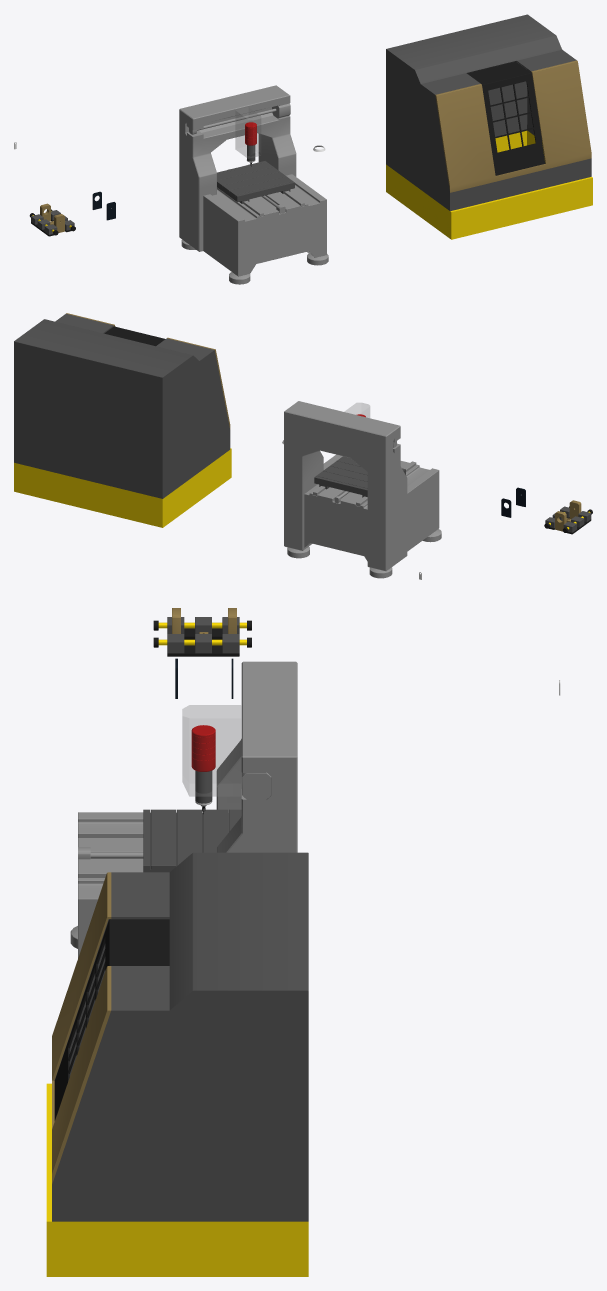
The model's file is 高雕機.FBX.
3 views of the same model, one above another, from view 1: azimuth 30°, elevation 25°; view 2: azimuth 150°, elevation 25°; view 3: azimuth 270°, elevation 25° (orthographic). The views are drawn at different scales.
Visible parts, largest first — view 1: 高雕機_外殼, 高雕_Base, 高雕_Bed, 高雕_主軸外殼, 高雕_置具架, 高雕_主軸馬達; view 2: 高雕機_外殼, 高雕_Base, 高雕_Bed, 高雕_置具架, 高雕_置具架2; view 3: 高雕機_外殼, 高雕_Base, 高雕_主軸外殼, 高雕_Bed, 高雕_置具架, 高雕_主軸馬達.
Boxes of the visible parts, x1=… form: 高雕機_外殼: x1=386, y1=14, x2=592, y2=239; 高雕_Base: x1=179, y1=85, x2=328, y2=284; 高雕_Bed: x1=217, y1=161, x2=294, y2=203; 高雕_主軸外殼: x1=235, y1=107, x2=260, y2=158; 高雕_置具架: x1=29, y1=203, x2=75, y2=236; 高雕_主軸馬達: x1=245, y1=122, x2=256, y2=162; 高雕機_外殼: x1=14, y1=313, x2=231, y2=527; 高雕_Base: x1=284, y1=401, x2=441, y2=578; 高雕_Bed: x1=314, y1=456, x2=405, y2=497; 高雕_置具架: x1=544, y1=500, x2=592, y2=534; 高雕_置具架2: x1=501, y1=487, x2=525, y2=517; 高雕機_外殼: x1=46, y1=852, x2=308, y2=1276; 高雕_Base: x1=70, y1=661, x2=297, y2=958; 高雕_主軸外殼: x1=182, y1=705, x2=240, y2=796; 高雕_Bed: x1=143, y1=809, x2=241, y2=872; 高雕_置具架: x1=153, y1=608, x2=251, y2=656; 高雕_主軸馬達: x1=191, y1=725, x2=215, y2=805.
Size of the model in its own units: 31681 by 8427 by 13710.
